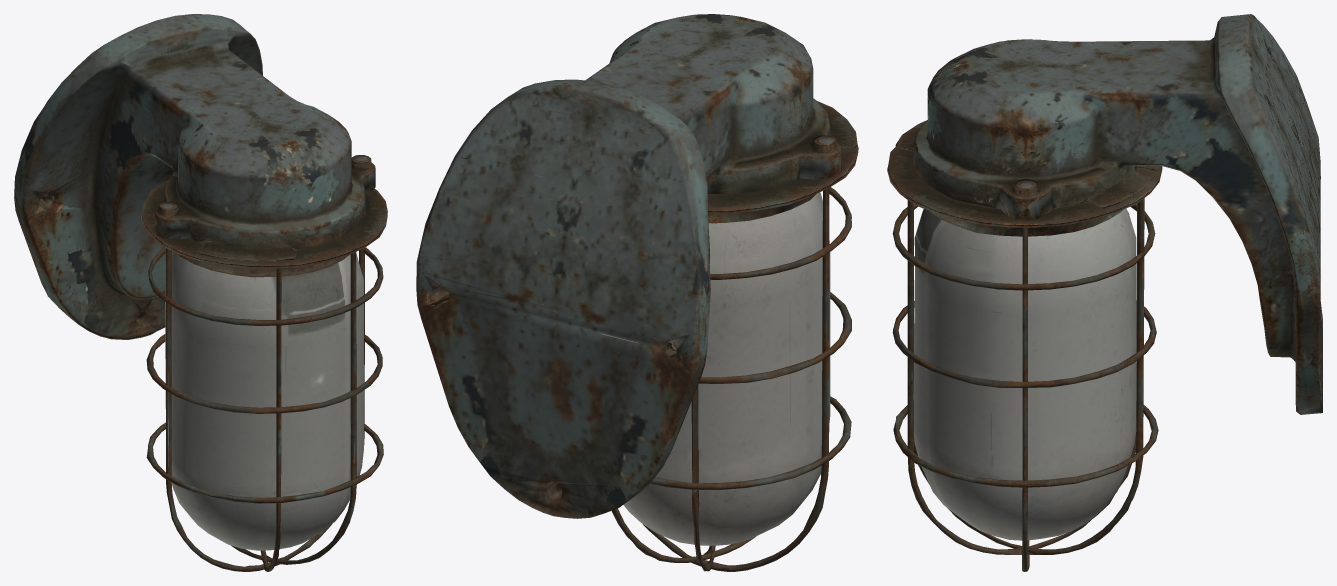
The model's file is silo81_wall_lamp.glb.
3 views of the same model, side by side, from view 1: azimuth 30°, elevation 25°; view 2: azimuth 150°, elevation 25°; view 3: azimuth 270°, elevation 25° (orthographic). The views are drawn at different scales.
Size of the model in its own units: 0.4976 by 0.9517 by 0.707.
1 material, 1 textured.
